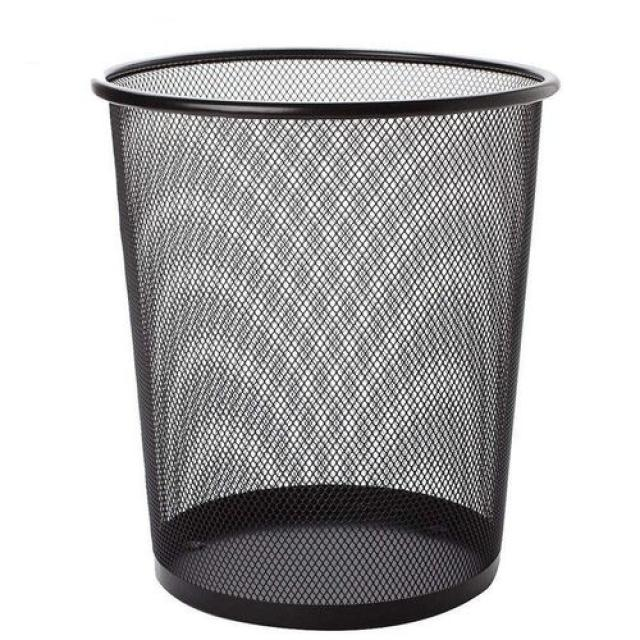dustbin: (89, 41, 563, 634)
